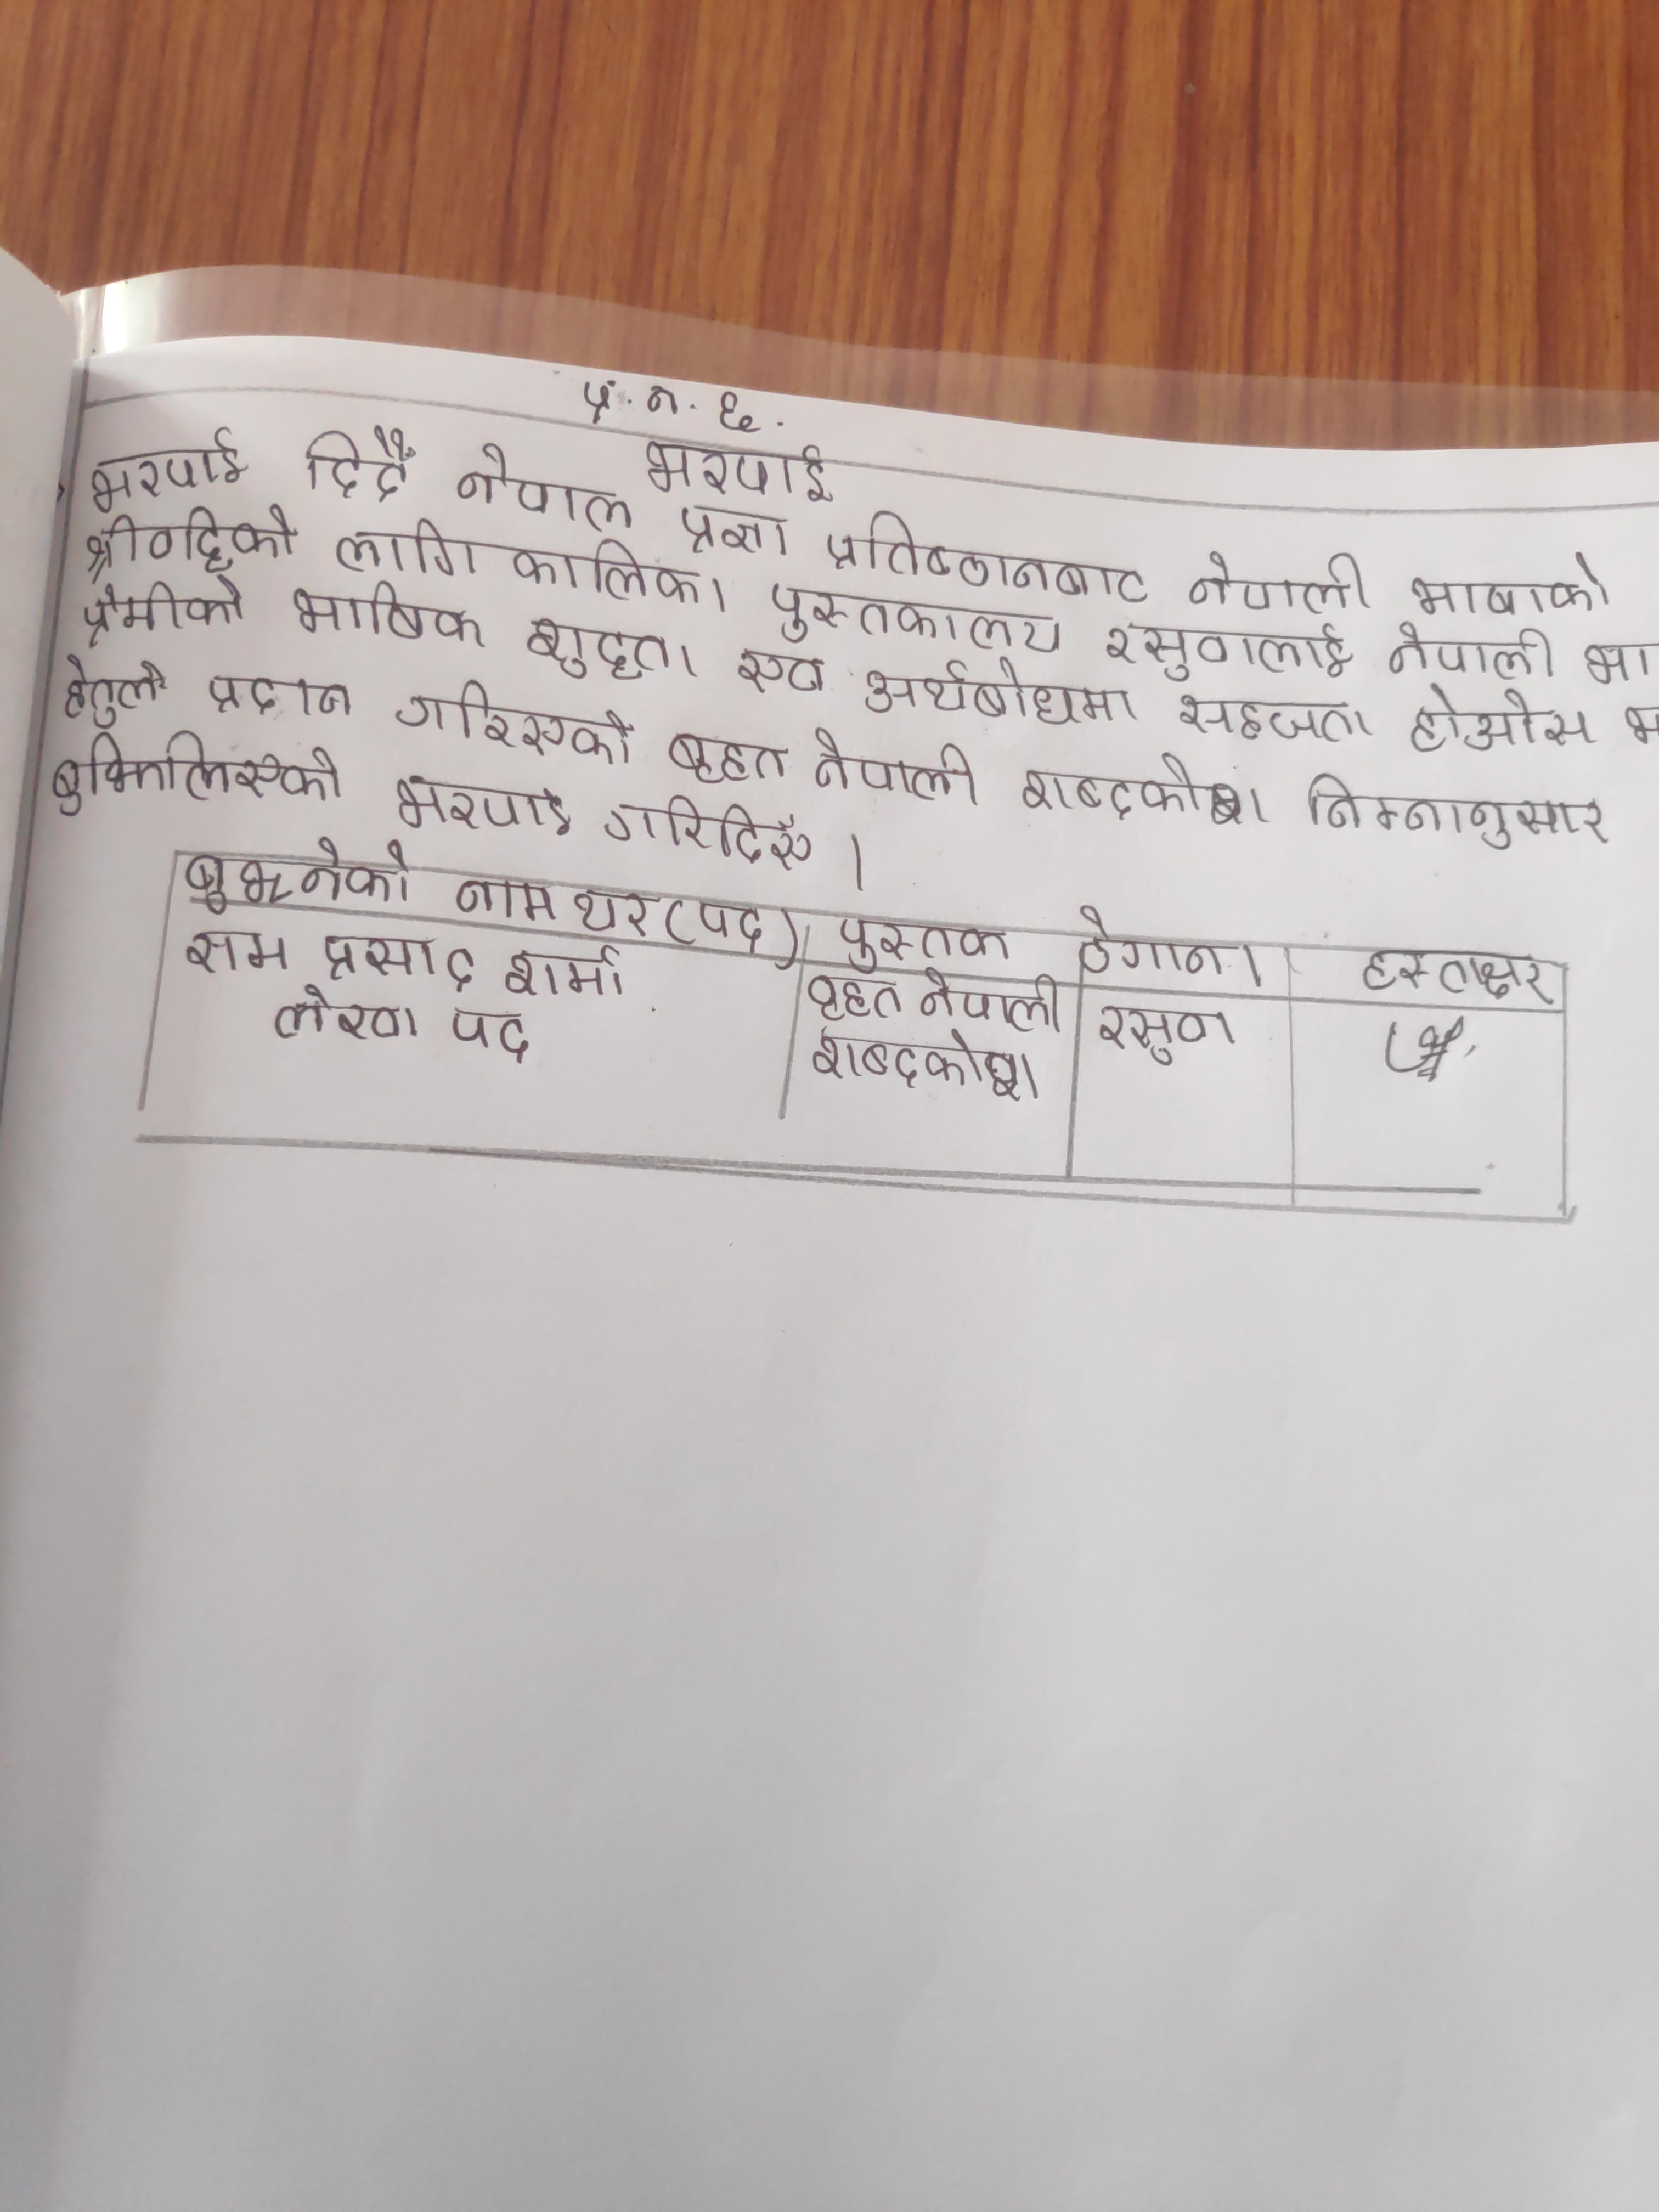text: (821, 507, 1152, 603), (1297, 775, 1617, 853), (45, 735, 352, 813), (854, 651, 1143, 733), (760, 583, 1070, 658), (390, 678, 634, 768), (1006, 752, 1262, 833), (1089, 610, 1356, 686), (505, 533, 730, 620), (183, 836, 415, 920), (809, 1026, 1049, 1099), (1063, 902, 1263, 989), (598, 792, 823, 869), (448, 444, 638, 528), (75, 507, 296, 575), (640, 432, 835, 503), (807, 725, 979, 805), (284, 580, 483, 648), (1403, 552, 1612, 617), (1405, 685, 1593, 756), (1377, 617, 1563, 688), (85, 430, 242, 512), (389, 770, 572, 840), (1183, 550, 1375, 615), (71, 578, 251, 646), (523, 617, 702, 685), (328, 507, 486, 583), (1173, 685, 1382, 742), (913, 958, 1072, 1033), (315, 923, 481, 993), (833, 918, 1016, 977), (1356, 946, 1554, 1000), (268, 989, 429, 1052), (296, 423, 420, 503), (1089, 998, 1236, 1064), (54, 658, 173, 732), (671, 503, 800, 568), (199, 671, 357, 721), (655, 730, 788, 787), (498, 942, 627, 998), (577, 374, 697, 434), (453, 869, 559, 932), (174, 928, 301, 981), (725, 643, 835, 700), (439, 1000, 535, 1061), (807, 970, 908, 1026), (694, 895, 772, 961), (1577, 629, 1659, 688), (568, 883, 659, 934), (709, 390, 770, 441)
